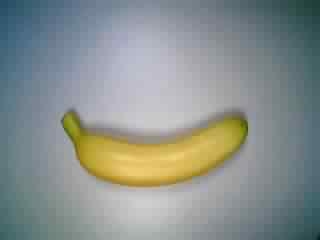banana: (54, 105, 257, 197)
